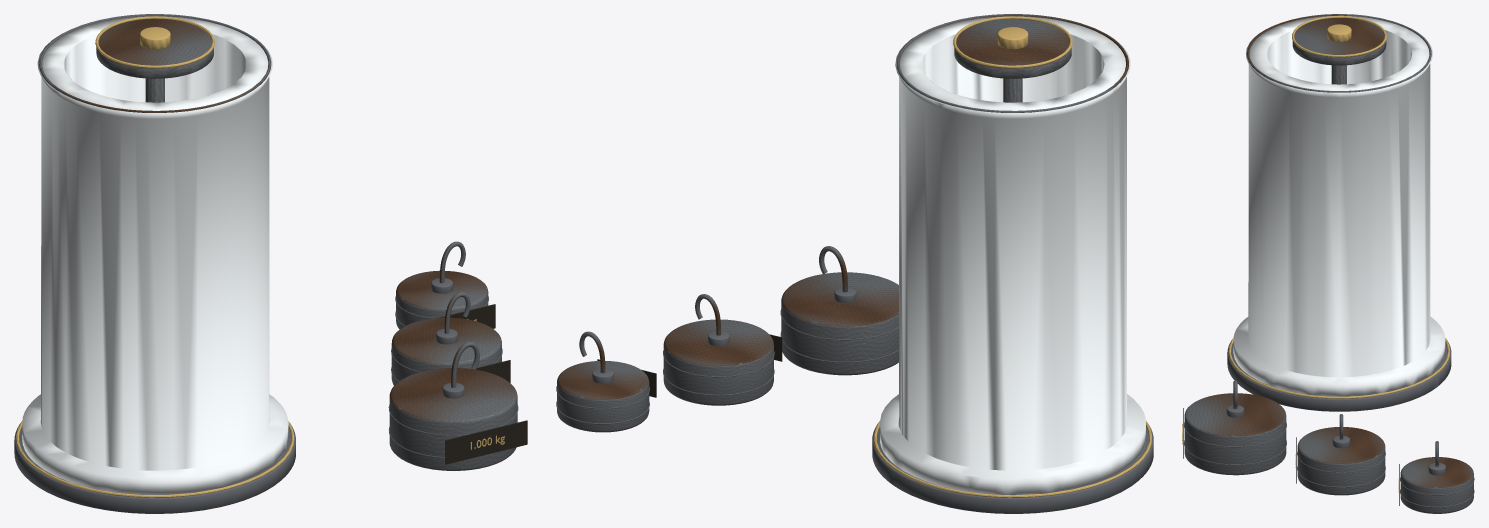
Rendered from boyle_apparatus.glb.
3 renders of one model, left to right at view 1: azimuth 30°, elevation 25°; view 2: azimuth 150°, elevation 25°; view 3: azimuth 270°, elevation 25°, orthographic. The views are drawn at different scales.
Parts seen in each view (by area): view 1: Glass_Cylinder, Weight_1kg_Body, GEO_glass_base_ring, GEO_weight_platform, Weight_500g_Body, Weight_200g_Body, GEO_weight_A_plaque, GEO_glass_lip_ring, GEO_glass_base_brass_ring, GEO_weight_platform_rim, GEO_platform_boss; view 2: Glass_Cylinder, Weight_1kg_Body, Weight_500g_Body, Weight_200g_Body, GEO_glass_base_ring, GEO_weight_platform, GEO_glass_lip_ring, GEO_glass_base_brass_ring, GEO_weight_platform_rim; view 3: Glass_Cylinder, Weight_1kg_Body, Weight_500g_Body, Weight_200g_Body, GEO_glass_base_ring, GEO_weight_platform, GEO_glass_lip_ring, GEO_glass_base_brass_ring, GEO_weight_platform_rim, GEO_platform_boss.
Part boxes in pixels (box(x1,y1,x2,y2)): Glass_Cylinder: box(22, 16, 288, 494); Weight_1kg_Body: box(389, 368, 517, 470); GEO_glass_base_ring: box(14, 422, 295, 513); GEO_weight_platform: box(96, 19, 213, 78); Weight_500g_Body: box(391, 317, 501, 385); Weight_200g_Body: box(396, 270, 488, 329); GEO_weight_A_plaque: box(445, 420, 527, 464); GEO_glass_lip_ring: box(39, 14, 271, 112); GEO_glass_base_brass_ring: box(16, 420, 294, 497); GEO_weight_platform_rim: box(95, 16, 214, 68); GEO_platform_boss: box(140, 27, 170, 49); Glass_Cylinder: box(879, 16, 1145, 494); Weight_1kg_Body: box(781, 272, 898, 375); Weight_500g_Body: box(663, 319, 773, 405); Weight_200g_Body: box(557, 361, 649, 432); GEO_glass_base_ring: box(872, 424, 1153, 513); GEO_weight_platform: box(954, 19, 1071, 78); GEO_glass_lip_ring: box(897, 14, 1128, 112); GEO_glass_base_brass_ring: box(873, 421, 1152, 497); GEO_weight_platform_rim: box(953, 16, 1072, 68); Glass_Cylinder: box(1233, 15, 1445, 396); Weight_1kg_Body: box(1184, 393, 1286, 475); Weight_500g_Body: box(1297, 427, 1385, 495); Weight_200g_Body: box(1400, 457, 1473, 513); GEO_glass_base_ring: box(1227, 339, 1451, 411); GEO_weight_platform: box(1292, 18, 1386, 65); GEO_glass_lip_ring: box(1247, 14, 1431, 92); GEO_glass_base_brass_ring: box(1228, 338, 1450, 398); GEO_weight_platform_rim: box(1292, 16, 1386, 57); GEO_platform_boss: box(1327, 24, 1351, 42).
Bounding box in the file's own units: 4.6 × 3.64 × 2.87.
6 materials, 1 textured.
